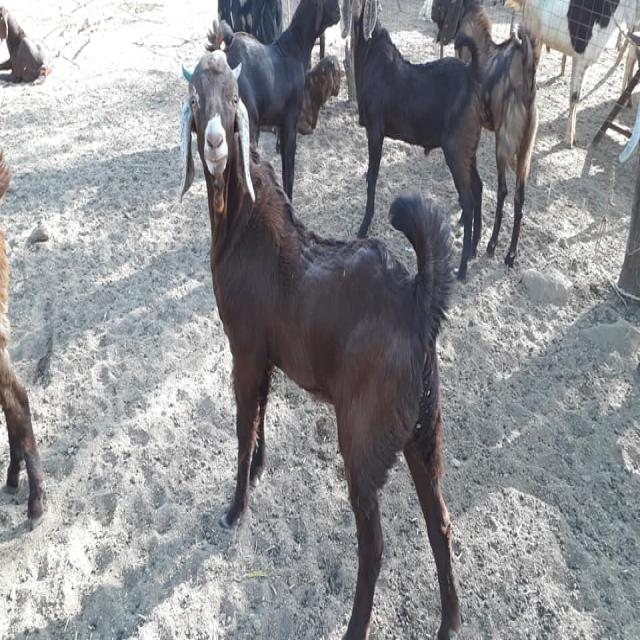Goat: (179, 34, 462, 639), (346, 0, 488, 279), (430, 0, 539, 268), (204, 0, 341, 203), (502, 0, 638, 149), (0, 147, 47, 529), (0, 4, 51, 84)
